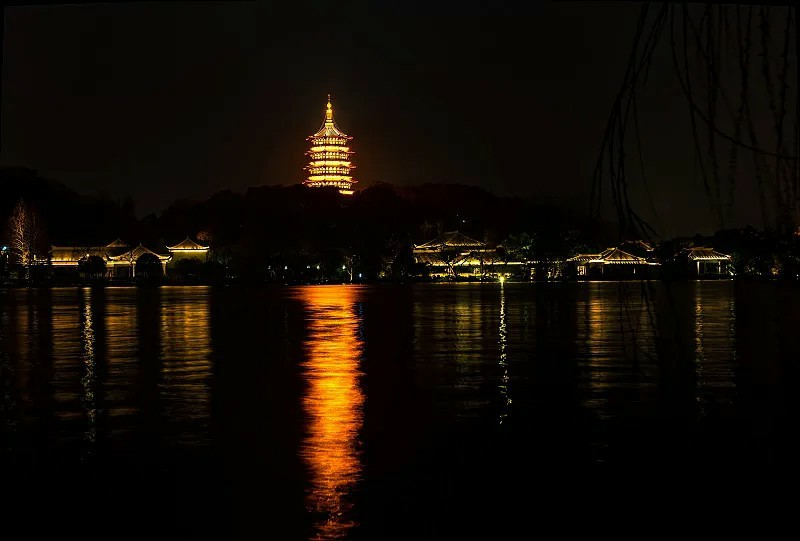Leifeng: (300, 93, 359, 196)
